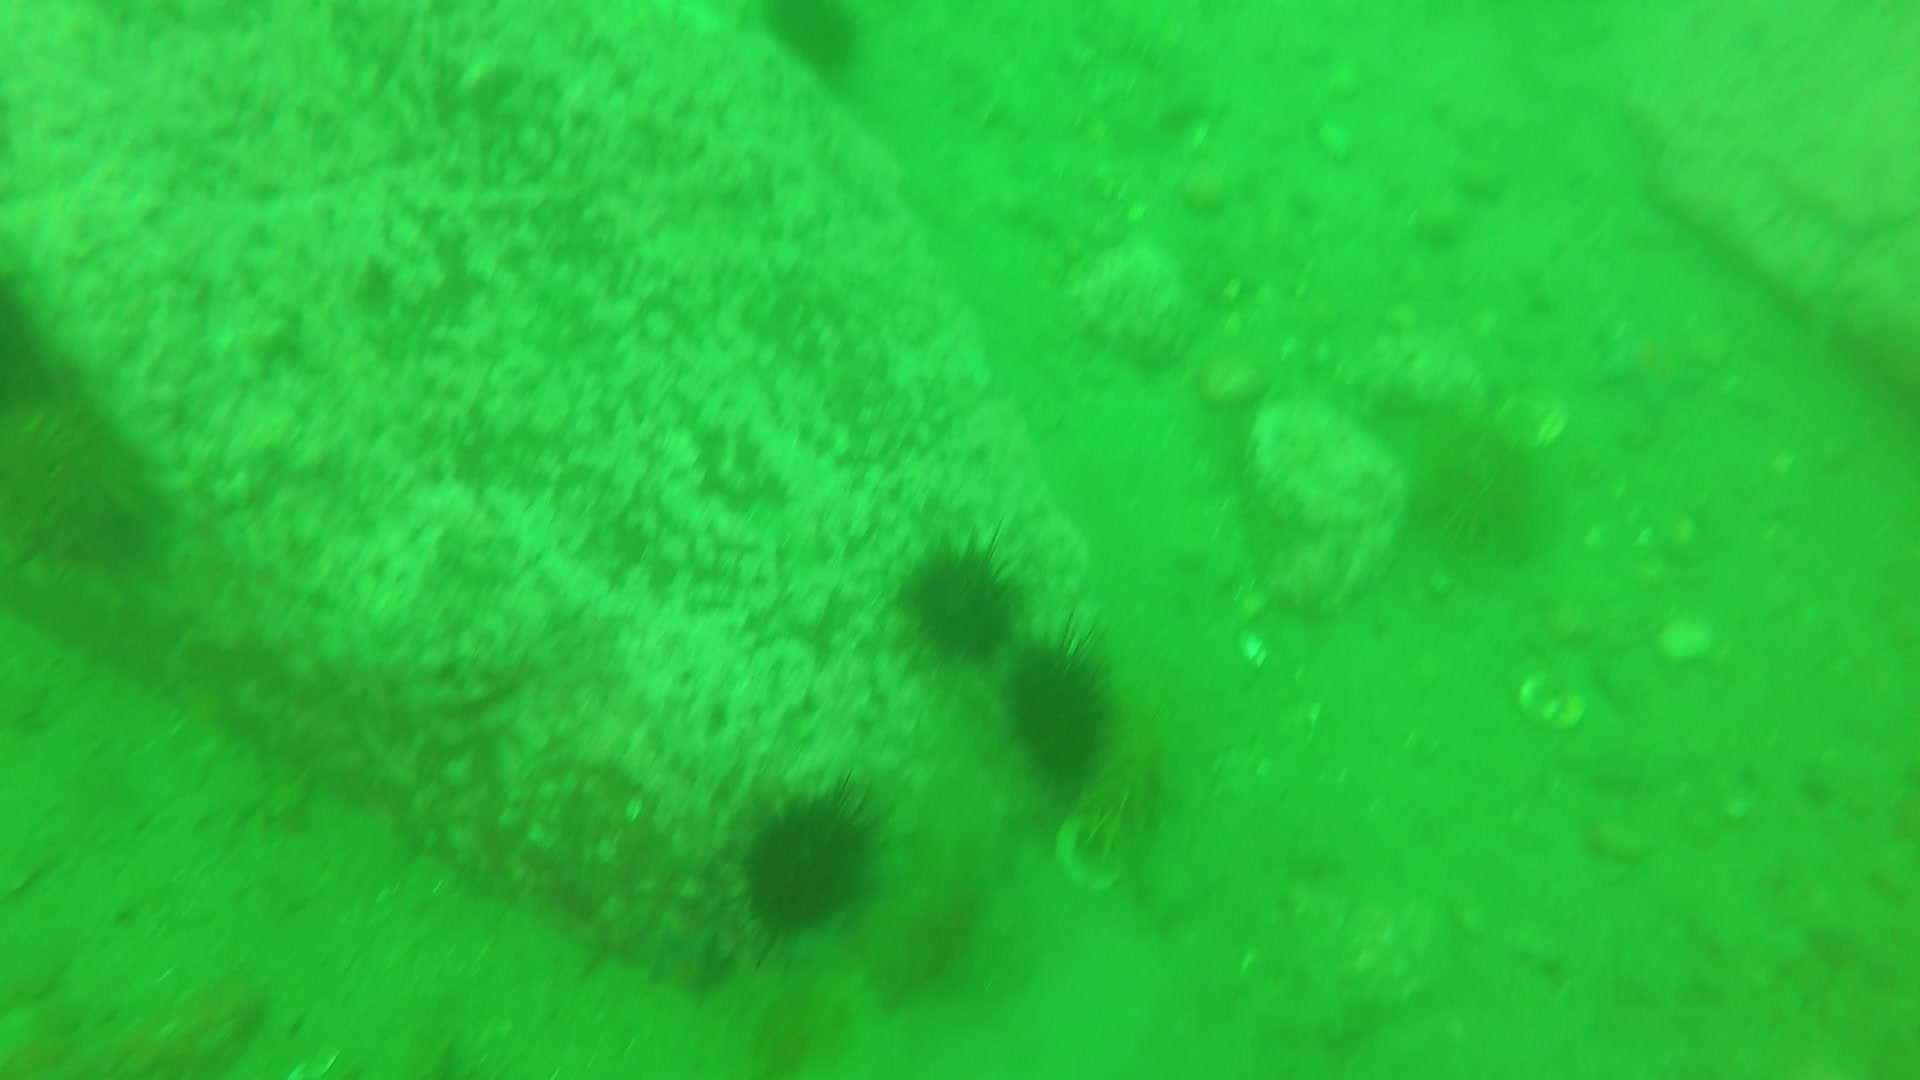echinus: (727, 767, 887, 942), (1, 378, 142, 568), (1400, 406, 1551, 564), (1000, 633, 1121, 800), (893, 531, 1015, 661), (1073, 727, 1189, 855), (749, 1, 866, 94)
holothurian: (916, 33, 1095, 135)
